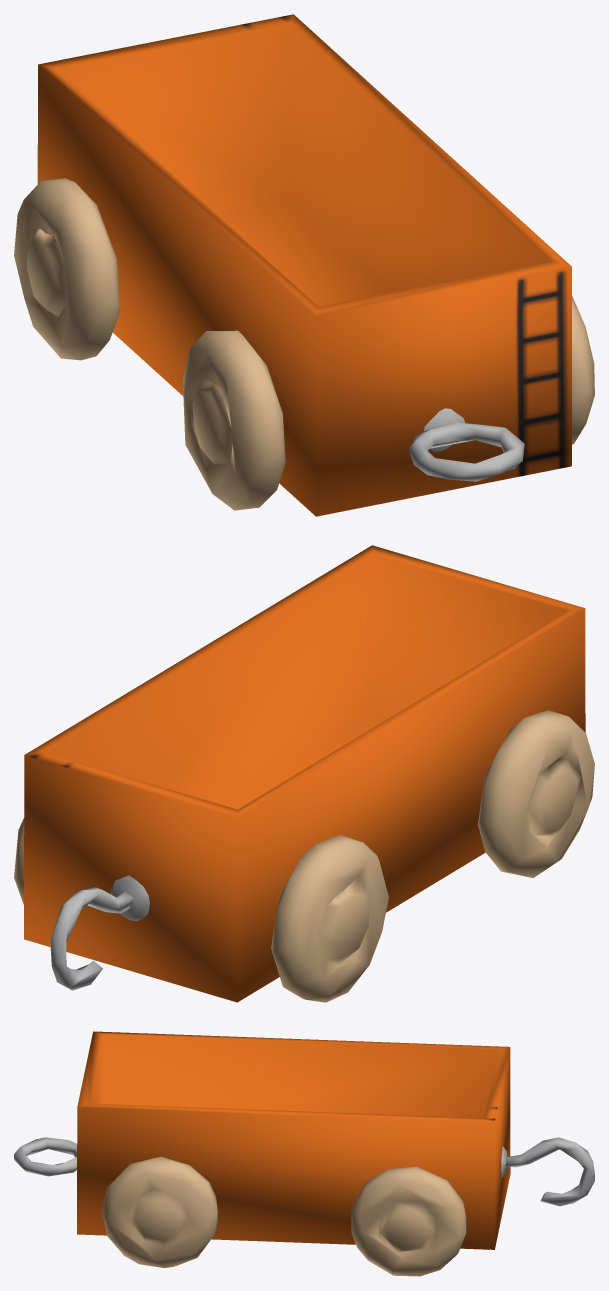
The model's file is orange.fbx.
3 renders of one model, top to bottom at view 1: azimuth 30°, elevation 25°; view 2: azimuth 150°, elevation 25°; view 3: azimuth 270°, elevation 25°, orthographic. The views are drawn at different scales.
Visible parts, largest first — view 1: vagone5; view 2: vagone5; view 3: vagone5.
Part boxes in pixels (left/top/right/bottom): vagone5: left=14, top=14, right=594, bottom=516; vagone5: left=14, top=545, right=594, bottom=1002; vagone5: left=14, top=1031, right=594, bottom=1276.
Size of the model in its own units: 307 by 180 by 641.
3 materials, 1 textured.
